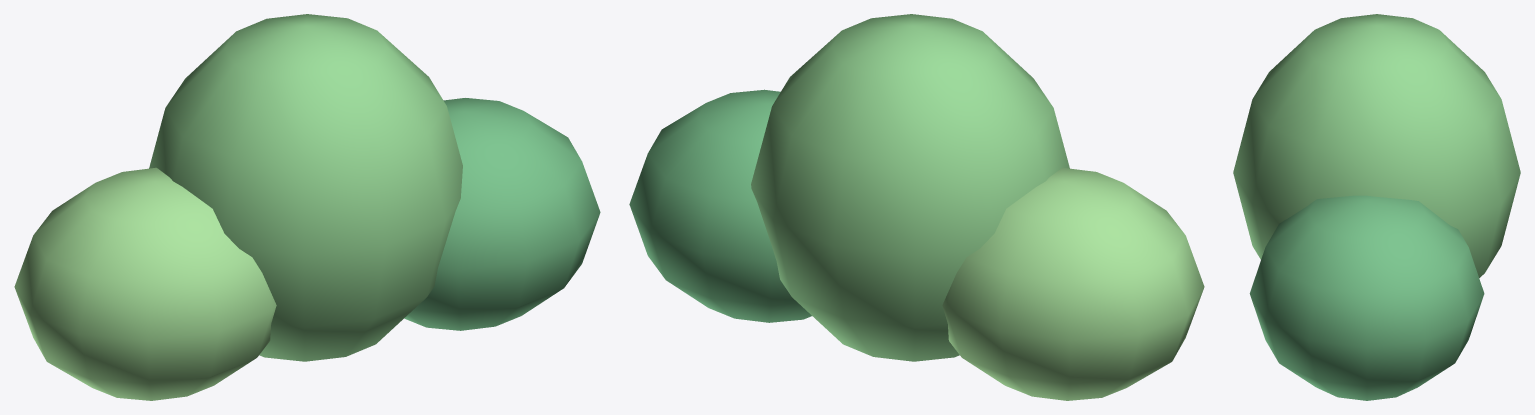
Rendered from bush_mounded_summer.glb.
3 renders of one model, left to right at view 1: azimuth 30°, elevation 25°; view 2: azimuth 150°, elevation 25°; view 3: azimuth 270°, elevation 25°, orthographic. The views are drawn at different scales.
Bounding box in the file's own units: 1.74 × 0.98 × 0.8701.
